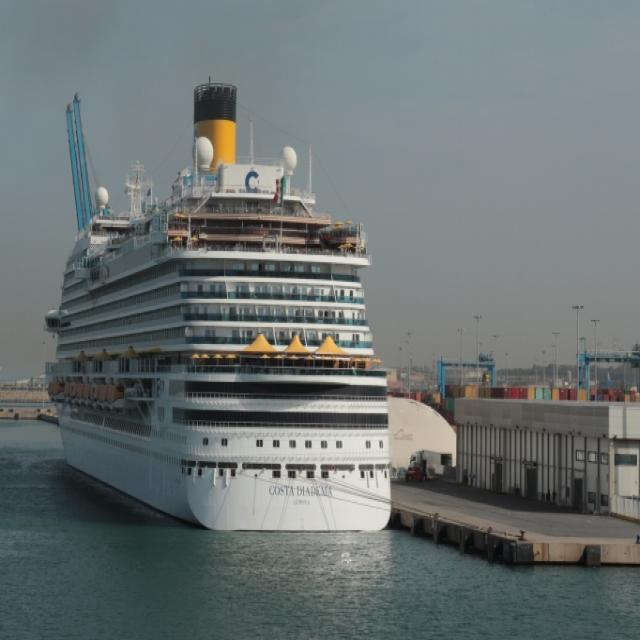cruises: (42, 73, 406, 538)
